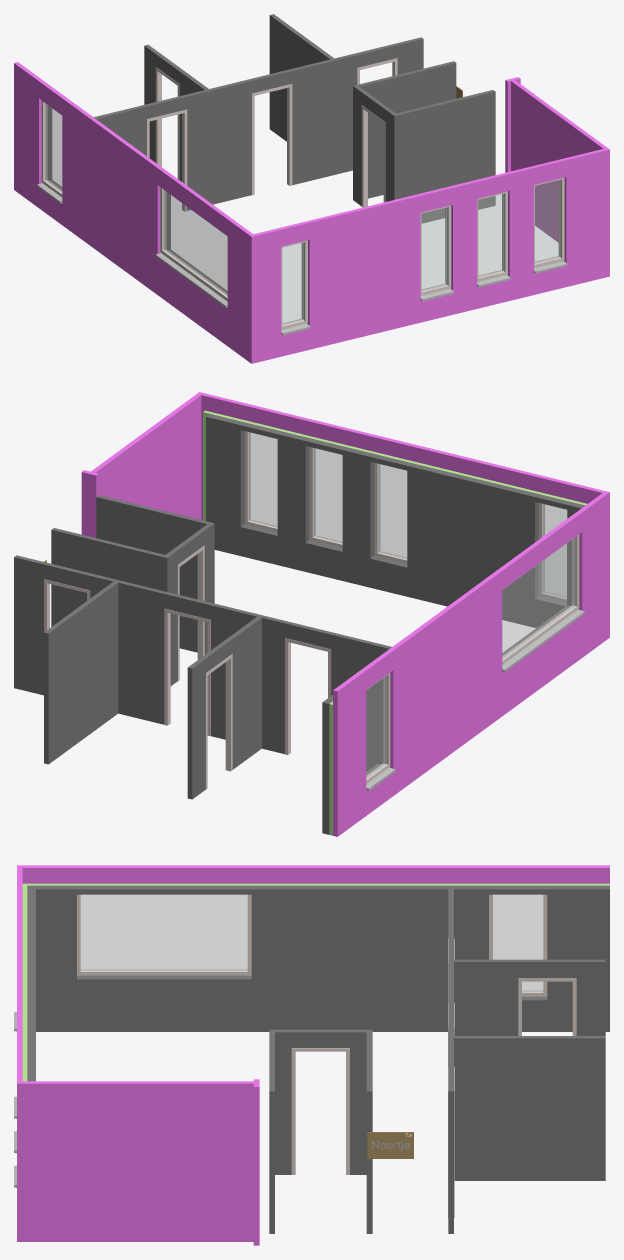
3 renders of one model, top to bottom at view 1: azimuth 30°, elevation 25°; view 2: azimuth 150°, elevation 25°; view 3: azimuth 270°, elevation 25°, orthographic. The views are drawn at different scales.
Parts seen in each view (by area): view 1: Walls.001, System Panel, Rectangular Mullion, NLRS_41_GM_WPB_waterslag RD50-90x160_vebo_ISR; view 2: Walls.001, System Panel, Rectangular Mullion, NLRS_41_GM_WPB_waterslag RD50-90x160_vebo_ISR; view 3: Walls.001, System Panel, Rectangular Mullion, Walls.
Boxes of the visible parts, box(x1,y1,x2,y2) form: Walls.001: box(14, 14, 609, 363); System Panel: box(45, 104, 560, 324); Rectangular Mullion: box(41, 58, 564, 329); NLRS_41_GM_WPB_waterslag RD50-90x160_vebo_ISR: box(37, 183, 567, 335); Walls.001: box(14, 392, 609, 836); System Panel: box(249, 432, 574, 777); Rectangular Mullion: box(44, 431, 579, 789); NLRS_41_GM_WPB_waterslag RD50-90x160_vebo_ISR: box(366, 609, 584, 790); Walls.001: box(17, 865, 609, 1245); System Panel: box(81, 895, 542, 991); Rectangular Mullion: box(77, 894, 576, 1217); Walls: box(367, 1132, 413, 1158).
Bounding box in the file's own units: 9.05 × 3 × 10.23.
